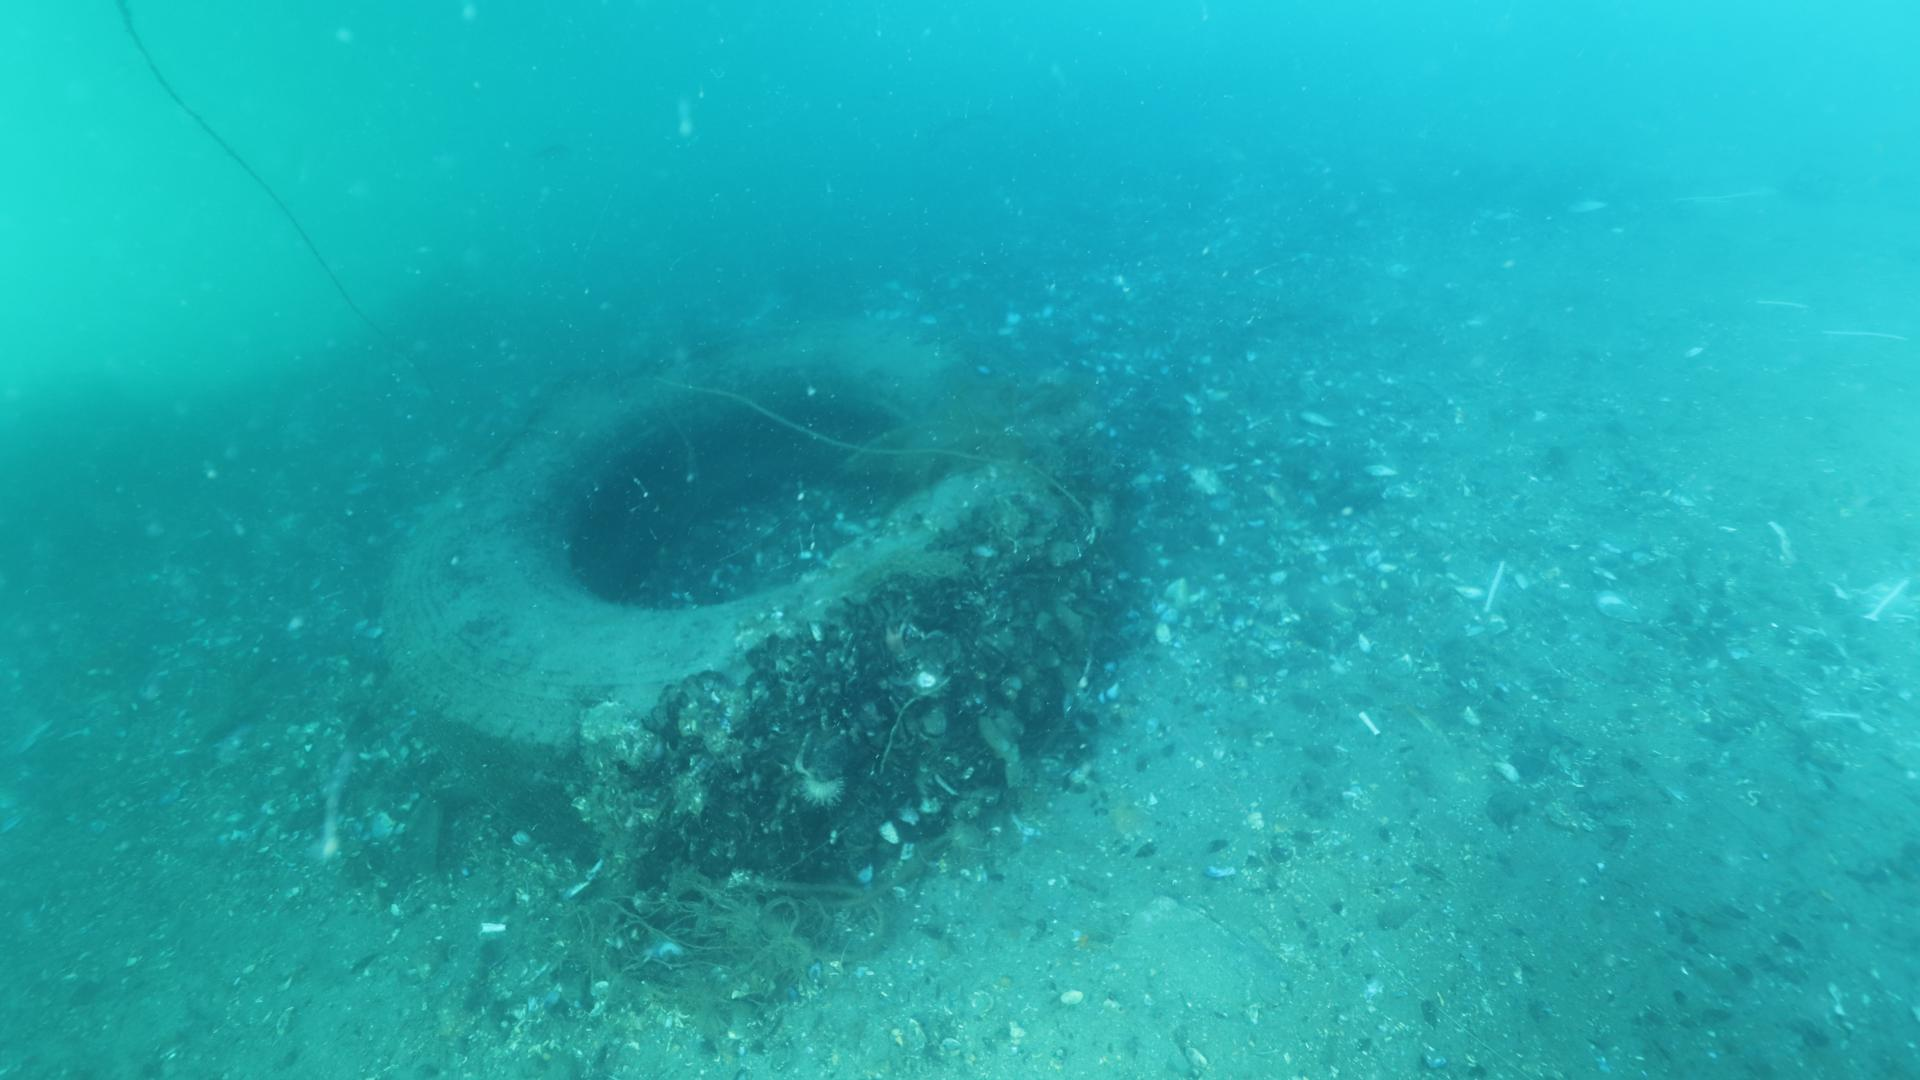tire: (375, 309, 1011, 872)
